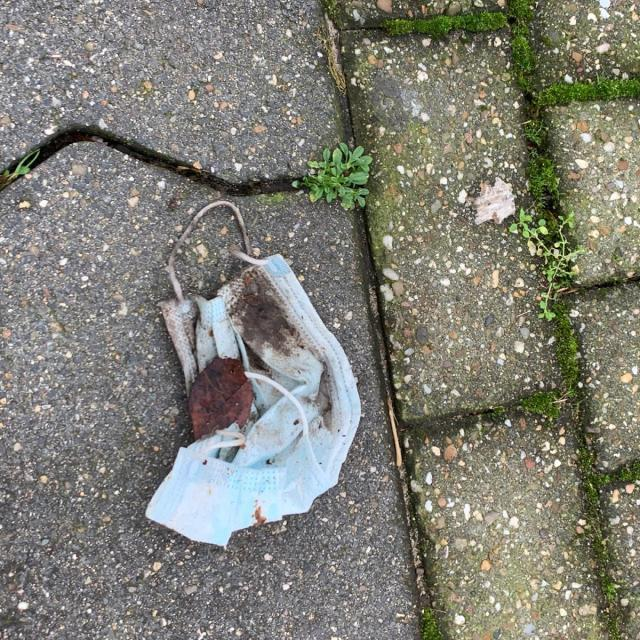Mask: (138, 198, 364, 548)
